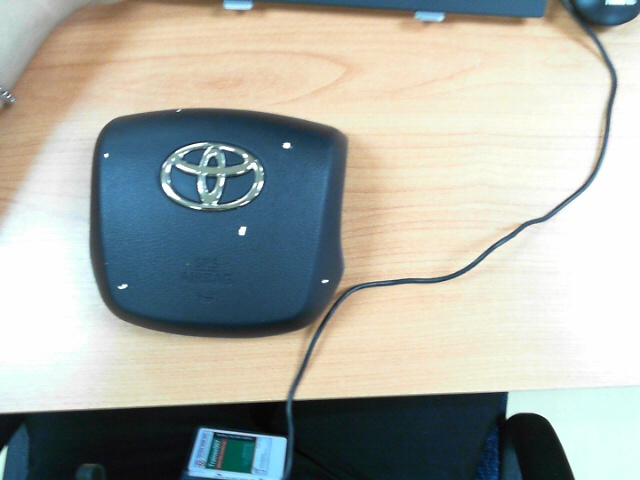Airbag: (238, 225, 247, 236), (117, 283, 128, 290), (281, 142, 292, 149), (103, 152, 110, 159), (321, 279, 330, 284), (176, 109, 182, 112)
